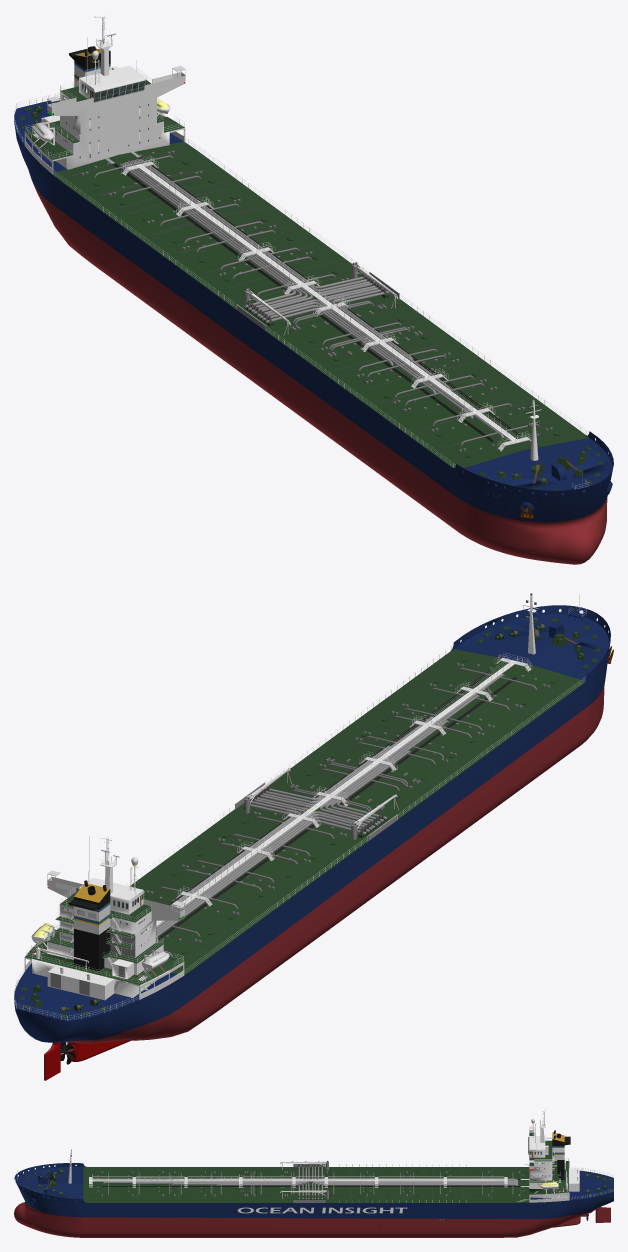
Rendered from chemtanker.glb.
3 views of the same model, one above another, from view 1: azimuth 30°, elevation 25°; view 2: azimuth 150°, elevation 25°; view 3: azimuth 270°, elevation 25° (orthographic). The views are drawn at different scales.
Visible parts, largest first — view 1: SM_detaljer, SM_skrov, SM_hus; view 2: SM_detaljer, SM_skrov, SM_hus; view 3: SM_skrov, SM_detaljer, SM_hus, SM_logoSide.
Part boxes in pixels (x1,y1,x2,y2): SM_detaljer: (14, 14, 612, 519); SM_skrov: (14, 98, 613, 564); SM_hus: (24, 46, 185, 174); SM_detaljer: (14, 593, 613, 1080); SM_skrov: (14, 605, 610, 1043); SM_hus: (24, 870, 184, 1000); SM_skrov: (14, 1163, 613, 1237); SM_detaljer: (17, 1109, 613, 1227); SM_hus: (528, 1126, 579, 1202); SM_logoSide: (237, 1207, 407, 1213).
Size of the model in its own units: 32.26 by 46.45 by 225.
Materials: 58 (16 with a texture image).
